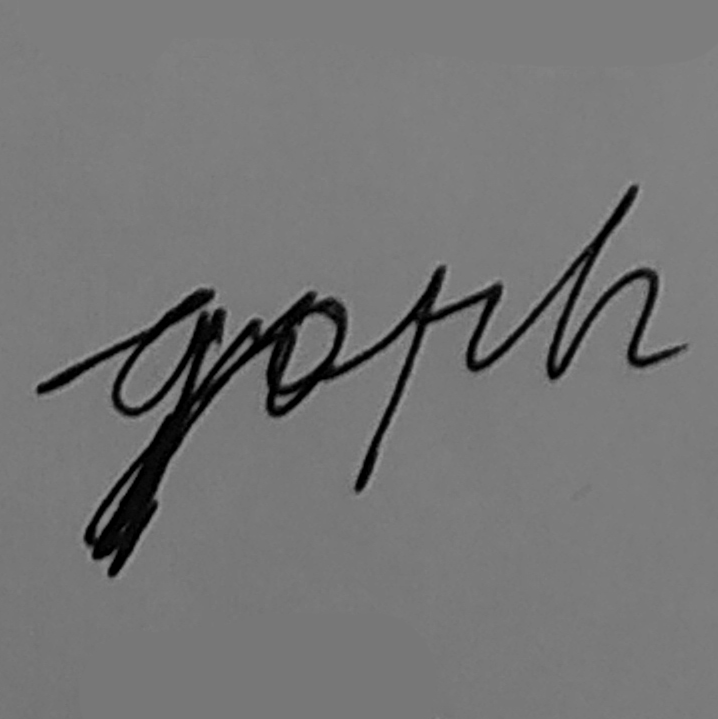h: (543, 181, 661, 384)
o: (259, 286, 350, 424)
p: (352, 263, 506, 500)
q: (80, 282, 231, 582)
